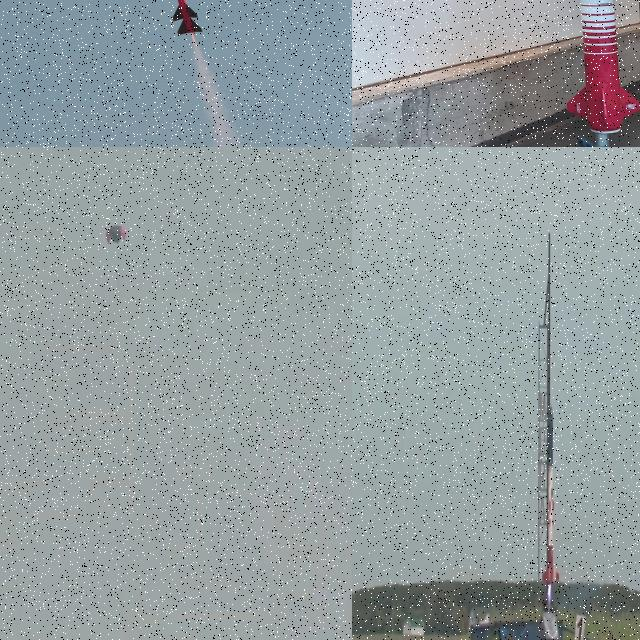Rocket: (567, 0, 640, 134), (542, 401, 560, 587), (169, 0, 203, 35), (117, 293, 121, 301)
